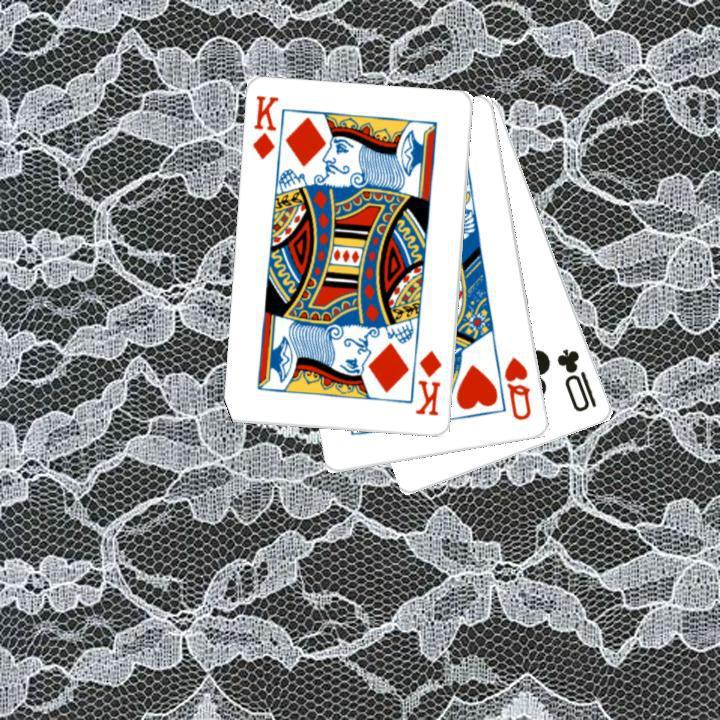10: (553, 344, 599, 415)
K: (411, 346, 444, 419), (248, 91, 281, 162)
Q: (500, 353, 534, 423)
